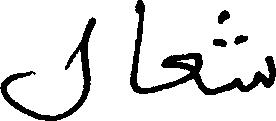X: (0, 12, 94, 120), (214, 5, 275, 99), (163, 48, 201, 95), (130, 0, 143, 98)
